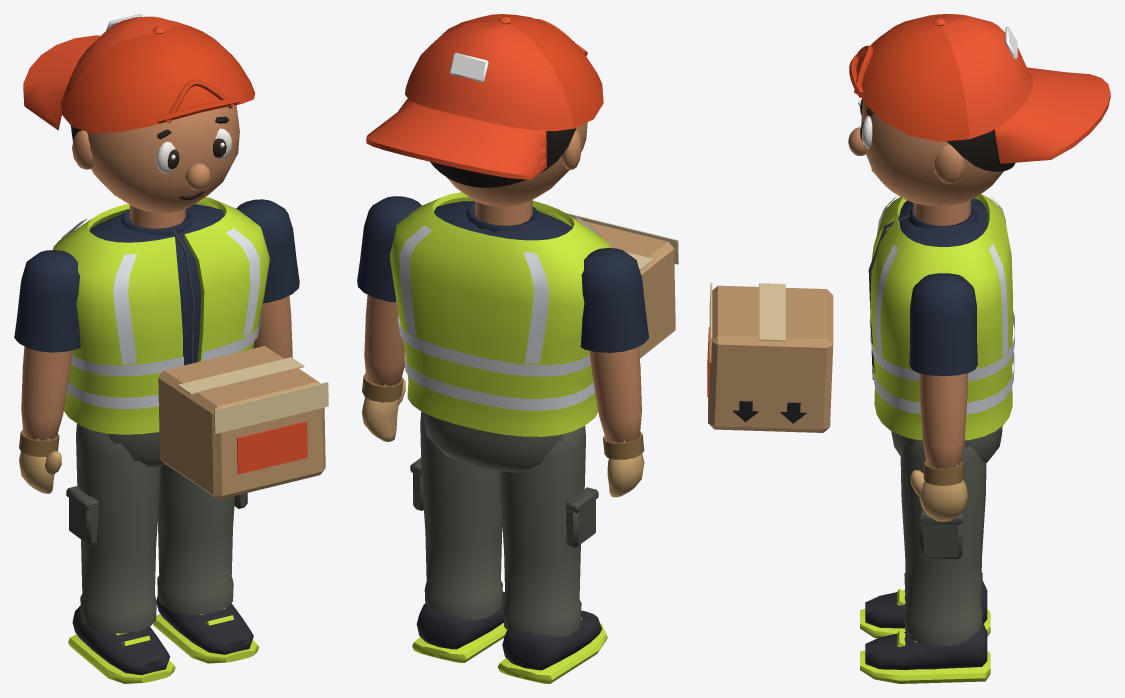
The model's file is Character_Class_stock_runner.fbx.
3 views of the same model, side by side, from view 1: azimuth 30°, elevation 25°; view 2: azimuth 150°, elevation 25°; view 3: azimuth 270°, elevation 25° (orthographic). The views are drawn at different scales.
Parts seen in each view (by area): view 1: HiVis, Crate, Mesh, LegR, Head, LegL, Reflective, ArmR, Crown, CrateTape, Torso, ArmR_Skin (+13 smaller); view 2: HiVis, Crown, LegR, LegL, Reflective, ArmR, Mesh, Hips, Crate, ArmR_Skin, Head, ArmL (+15 smaller); view 3: HiVis, Crate, Crown, LegL, Mesh, Head, ArmL, ArmL_Skin, Reflective, LegL_Shoe, Torso, LegL_Sole (+9 smaller).
Boxes of the visible parts, x1,y1,x2,y2 form: HiVis: [53, 197, 269, 434]; Crate: [158, 346, 325, 499]; Mesh: [62, 25, 255, 132]; LegR: [76, 423, 160, 633]; Head: [72, 105, 239, 228]; LegL: [157, 464, 234, 614]; Reflective: [61, 218, 261, 408]; ArmR: [14, 250, 80, 352]; Crown: [23, 16, 200, 130]; CrateTape: [178, 357, 328, 433]; Torso: [89, 204, 224, 365]; ArmR_Skin: [21, 346, 72, 440]; HiVis: [390, 192, 609, 436]; Crown: [366, 16, 573, 179]; LegR: [499, 426, 585, 636]; LegL: [420, 411, 502, 620]; Reflective: [398, 216, 601, 410]; ArmR: [580, 248, 648, 352]; Mesh: [421, 14, 603, 128]; Hips: [422, 412, 563, 472]; Crate: [575, 219, 675, 358]; ArmR_Skin: [589, 346, 641, 442]; Head: [446, 122, 587, 225]; ArmL: [357, 196, 421, 302]; HiVis: [870, 194, 1012, 440]; Crate: [708, 285, 833, 432]; Crown: [933, 14, 1110, 163]; LegL: [900, 439, 986, 645]; Mesh: [849, 14, 969, 141]; Head: [848, 100, 1003, 225]; ArmL: [909, 273, 977, 376]; ArmL_Skin: [919, 373, 967, 468]; Reflective: [869, 195, 1014, 414]; LegL_Shoe: [865, 621, 987, 669]; Torso: [885, 198, 987, 246]; LegL_Sole: [860, 630, 990, 683].
Size of the model in its own units: 244 by 525 by 304.
